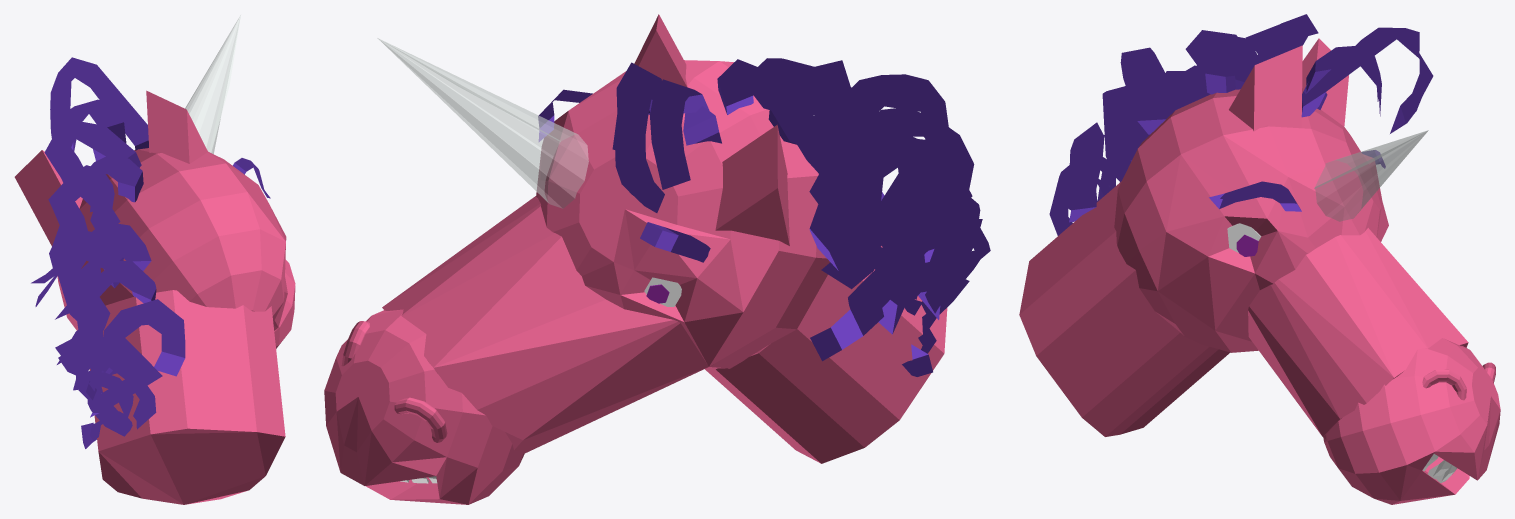
File: animals-first-unicorn-model-090.glb
The picture shows the model from 3 angles, left to right: view 1: azimuth 30°, elevation 25°; view 2: azimuth 150°, elevation 25°; view 3: azimuth 270°, elevation 25°; orthographic projection. The views are drawn at different scales.
Visible parts, largest first — view 1: Node; view 2: Node; view 3: Node.
Part boxes in pixels (bbox=[...]): Node: bbox=[14, 15, 295, 504]; Node: bbox=[324, 14, 990, 504]; Node: bbox=[1019, 14, 1500, 504].
Size of the model in its own units: 2.05 by 2.03 by 2.18.
